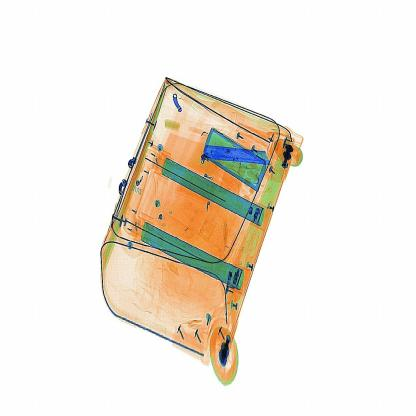pliers: (200, 139, 276, 180)
